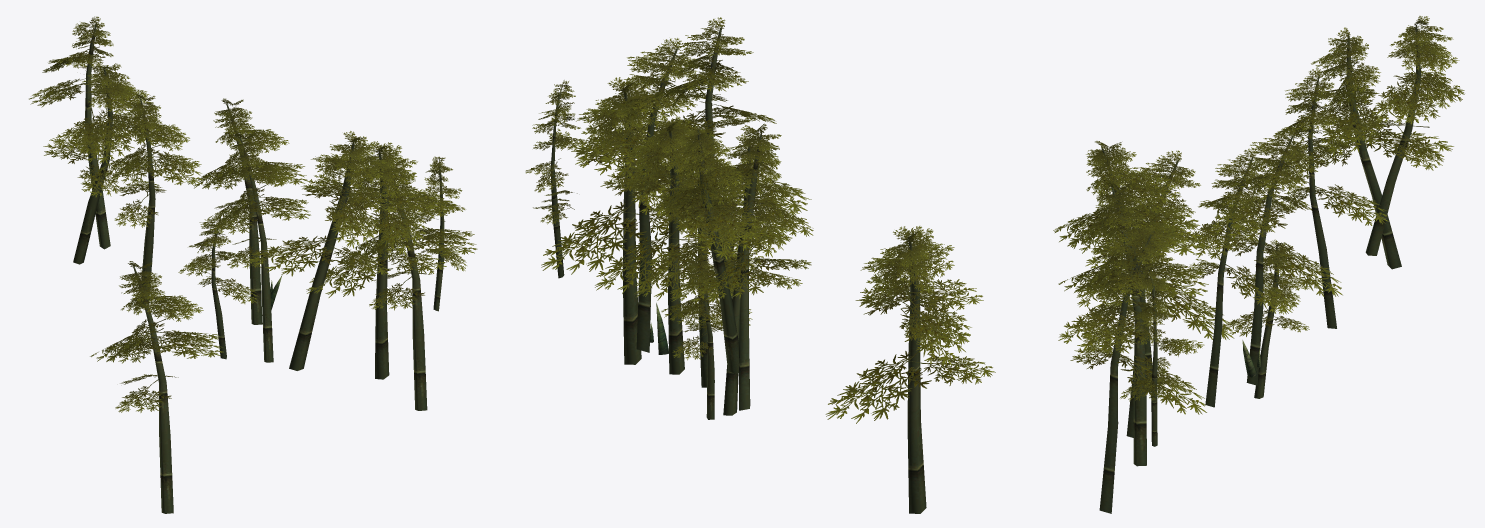
The model's file is Area_05_2.fbx.
3 renders of one model, left to right at view 1: azimuth 30°, elevation 25°; view 2: azimuth 150°, elevation 25°; view 3: azimuth 270°, elevation 25°, orthographic. The views are drawn at different scales.
Visible parts, largest first — view 1: Area_05_2; view 2: Area_05_2; view 3: Area_05_2.
Part boxes in pixels (x1,y1,x2,y2): Area_05_2: (29, 16, 477, 513); Area_05_2: (525, 17, 995, 513); Area_05_2: (1053, 16, 1464, 513).
Bounding box in the file's own units: 3082 × 3116 × 2714.
